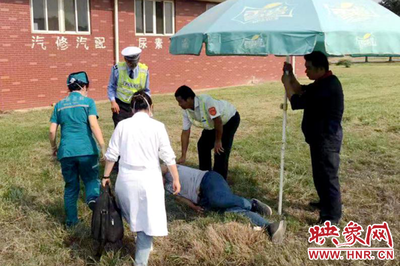fall: (153, 156, 289, 240)
